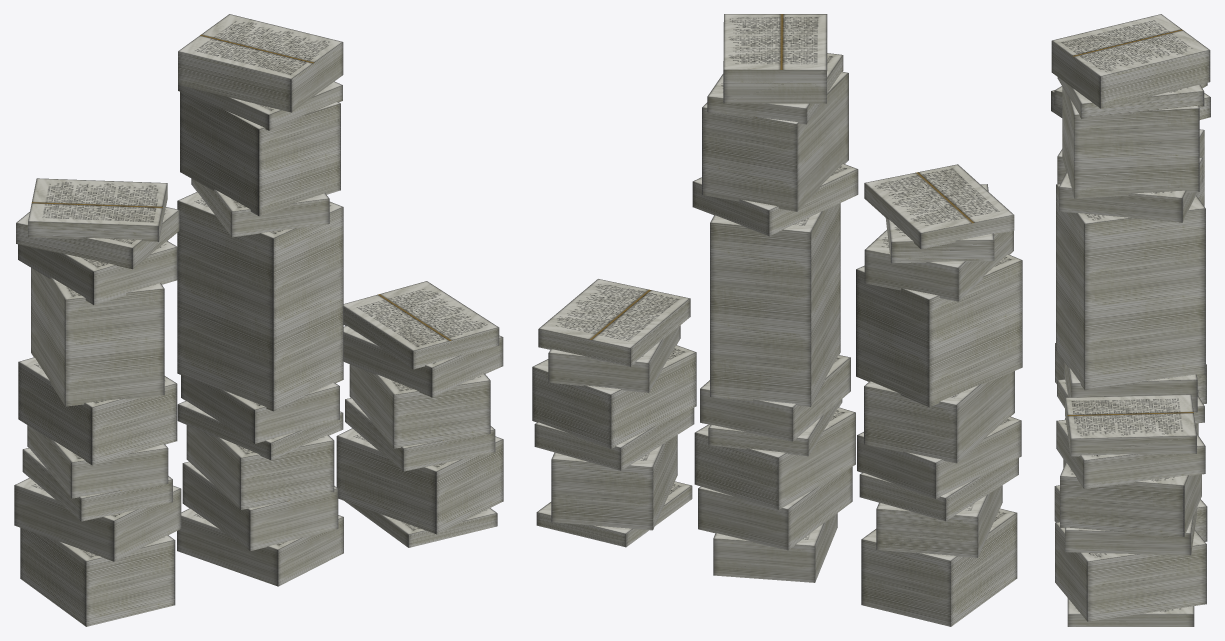
The model's file is paper_twist_stacks.fbx.
3 views of the same model, side by side, from view 1: azimuth 30°, elevation 25°; view 2: azimuth 150°, elevation 25°; view 3: azimuth 270°, elevation 25° (orthographic). The views are drawn at different scales.
Visible parts, largest first — view 1: paper6 (×2), paper2 (×3), paper5 (×3), paper1 (×3), paper8 (×2), paper4 (×3), paper3 (×3), paper10, paper9 (×2), paper7 (×2), paper11; view 2: paper6 (×2), paper2 (×3), paper5 (×3), paper1 (×3), paper4 (×3), paper3 (×3), paper8 (×2), paper9 (×2), paper10, paper7 (×2), paper11; view 3: paper6 (×2), paper8 (×2), paper10, paper2 (×2), paper4 (×2), paper11, paper5 (×2), paper7, paper3, paper1 (×2), paper9.
Boxes of the visible parts, <box> form: paper6 (×2): <box>31,192,343,411</box>; paper2 (×3): <box>14,428,503,561</box>; paper5 (×3): <box>18,325,503,465</box>; paper1 (×3): <box>20,501,497,626</box>; paper8 (×2): <box>16,92,340,269</box>; paper4 (×3): <box>27,364,490,498</box>; paper3 (×3): <box>22,398,495,521</box>; paper10: <box>178,14,343,112</box>; paper9 (×2): <box>28,81,342,241</box>; paper7 (×2): <box>18,178,329,304</box>; paper11: <box>343,281,499,369</box>; paper6 (×2): <box>710,203,1022,407</box>; paper2 (×3): <box>551,435,1002,557</box>; paper5 (×3): <box>548,325,1014,463</box>; paper1 (×3): <box>536,481,1017,626</box>; paper4 (×3): <box>532,345,1021,498</box>; paper3 (×3): <box>534,407,1018,521</box>; paper8 (×2): <box>702,71,994,263</box>; paper9 (×2): <box>707,53,1014,248</box>; paper10: <box>723,14,827,103</box>; paper7 (×2): <box>692,163,1013,301</box>; paper11: <box>538,279,690,366</box>; paper6 (×2): <box>1056,129,1205,390</box>; paper8 (×2): <box>1051,87,1210,198</box>; paper10: <box>1051,14,1210,108</box>; paper2 (×2): <box>1055,343,1206,621</box>; paper4 (×2): <box>1057,379,1204,537</box>; paper11: <box>1065,394,1196,456</box>; paper5 (×2): <box>1056,362,1205,488</box>; paper7: <box>1059,157,1202,222</box>; paper3: <box>1065,508,1196,555</box>; paper1 (×2): <box>1054,485,1207,626</box>; paper9: <box>1057,77,1204,119</box>.
Size of the model in its own units: 5.24 by 5.56 by 1.66.
2 materials, 2 textured.
